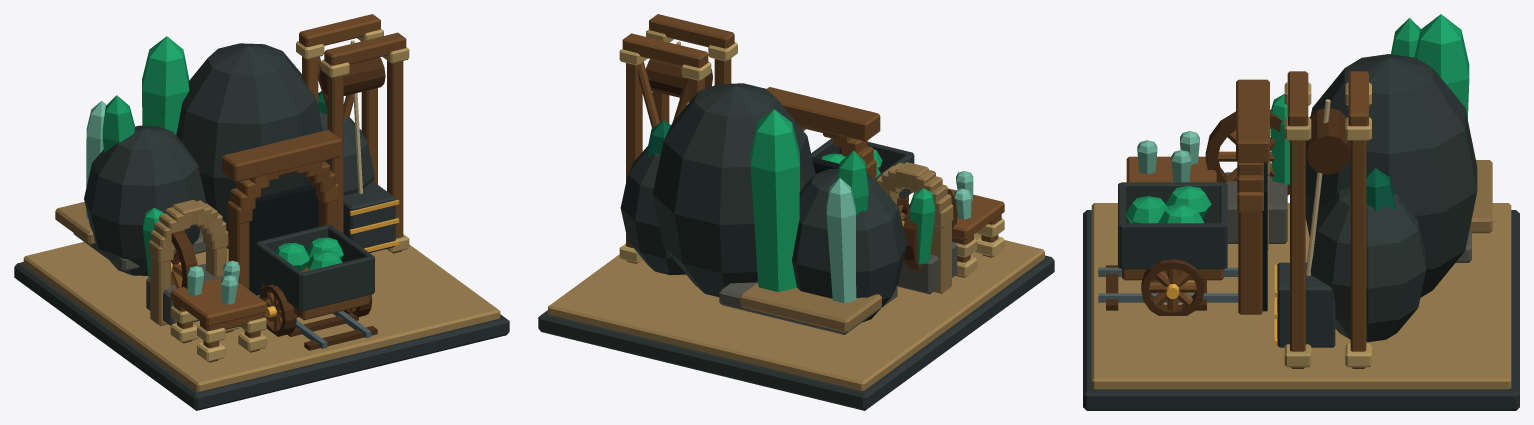
3 renders of one model, left to right at view 1: azimuth 30°, elevation 25°; view 2: azimuth 150°, elevation 25°; view 3: azimuth 270°, elevation 25°, orthographic. The views are drawn at different scales.
Parts seen in each view (by area): view 1: gem_mine_7_structure, gem_mine_7_metal; view 2: gem_mine_7_structure; view 3: gem_mine_7_structure, gem_mine_7_metal.
Boxes of the visible parts, x1,y1,x2,y2 form: gem_mine_7_structure: [14, 14, 509, 410]; gem_mine_7_metal: [171, 199, 399, 317]; gem_mine_7_structure: [538, 14, 1054, 410]; gem_mine_7_structure: [1083, 14, 1519, 410]; gem_mine_7_metal: [1166, 264, 1277, 345].
Bounding box in the file's own units: 3.6 × 2.62 × 3.6.
